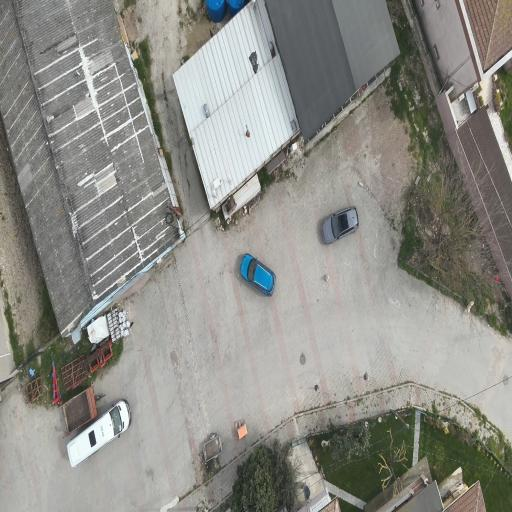car: (68, 400, 131, 467), (241, 254, 275, 295), (322, 207, 358, 244)
